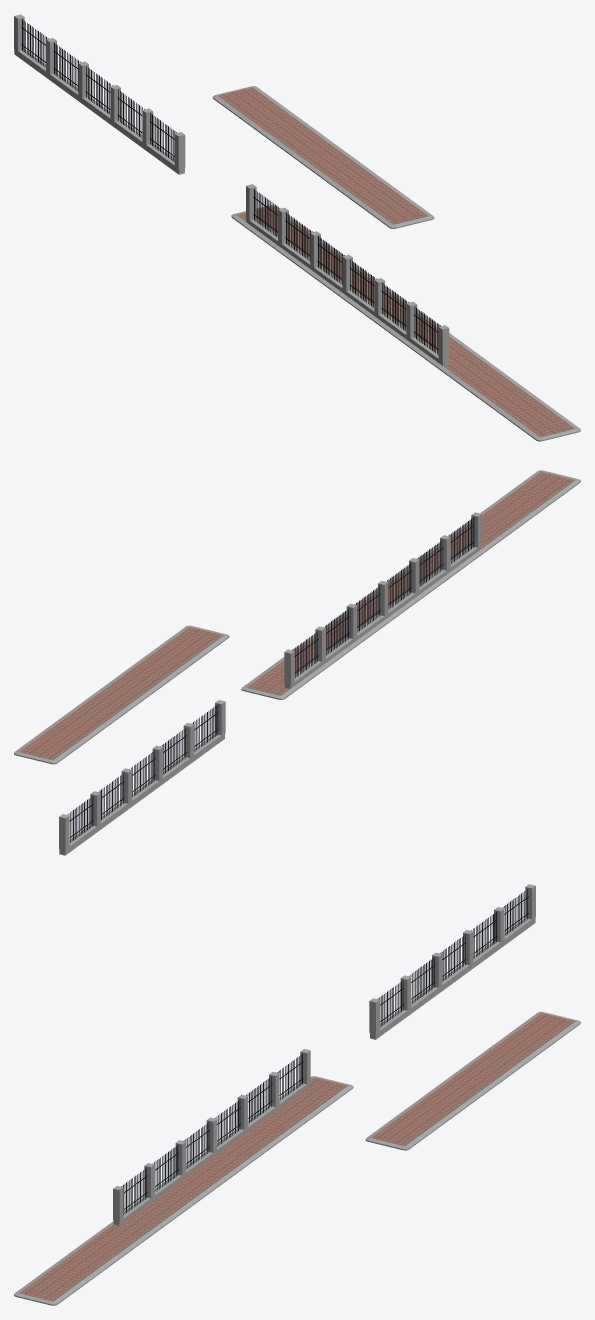
File: hangrao_sansauA1.fbx
The picture shows the model from 3 angles, top to bottom: view 1: azimuth 30°, elevation 25°; view 2: azimuth 150°, elevation 25°; view 3: azimuth 330°, elevation 25°; orthographic projection. The views are drawn at different scales.
Parts seen in each view (by area): view 1: barrier2; view 2: barrier2; view 3: barrier2.
Boxes of the visible parts, x1=… form: barrier2: x1=14, y1=14, x2=580, y2=441; barrier2: x1=14, y1=470, x2=580, y2=855; barrier2: x1=14, y1=884, x2=580, y2=1305.
Size of the model in its own units: 1430 by 347 by 8620.
Materials: 4 (3 with a texture image).
